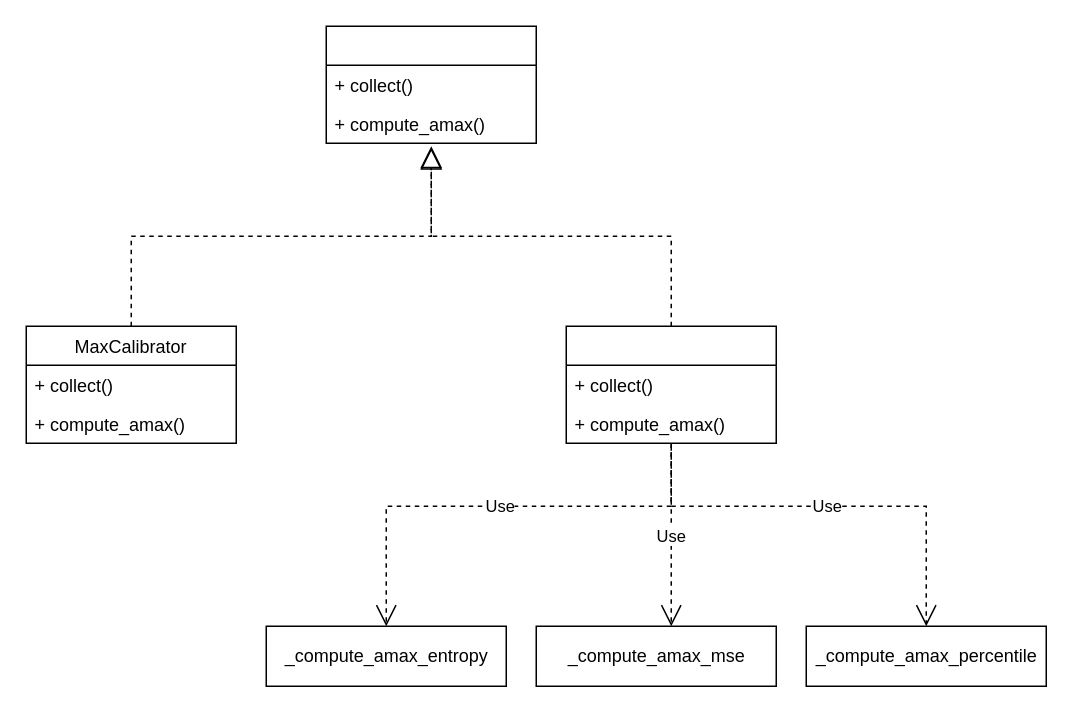
Some shapes in this 1073 by 713 pixel diagram are drawn without their labels. Here are the shapes that lost their labels. From the top down, the box of each, then its label:
(325, 25, 536, 143): _Calibrator
(565, 325, 776, 443): HistogramCalibrator
